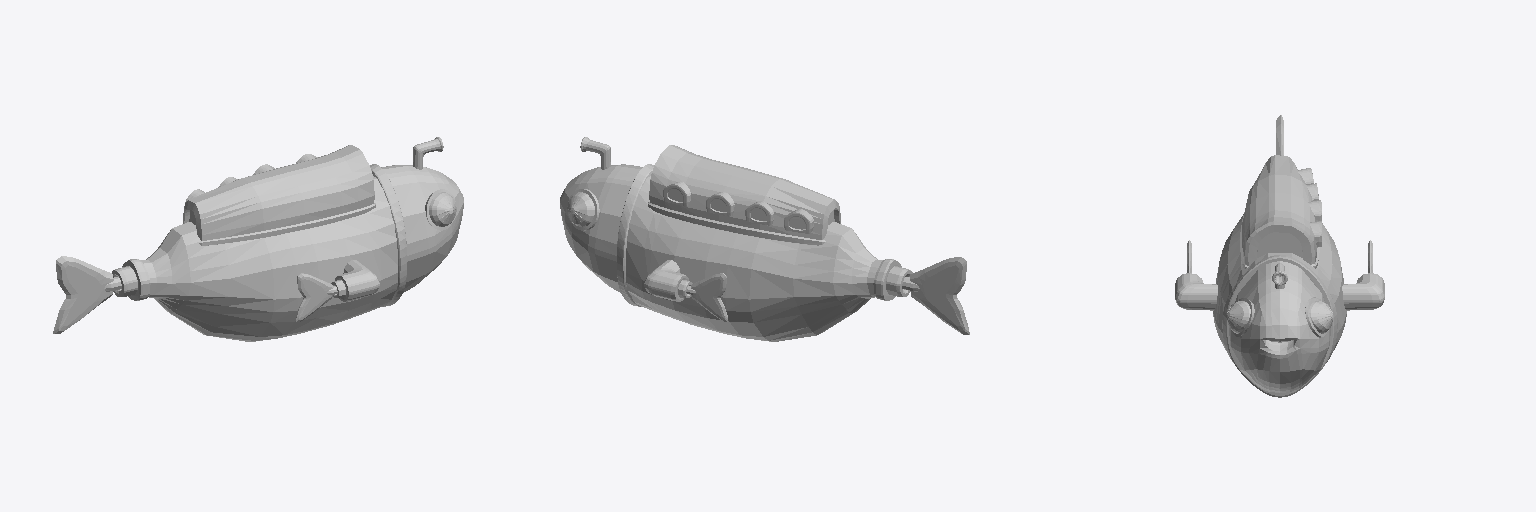
The model's file is SM_FishSubmarine.obj.
3 views of the same model, side by side, from view 1: azimuth 30°, elevation 25°; view 2: azimuth 150°, elevation 25°; view 3: azimuth 270°, elevation 25° (orthographic).
Parts seen in each view (by area): view 1: LP_polySurface6; view 2: LP_polySurface6; view 3: LP_polySurface6.
Part boxes in pixels (left/top/right/bottom): LP_polySurface6: left=53, top=137, right=463, bottom=341; LP_polySurface6: left=560, top=137, right=969, bottom=341; LP_polySurface6: left=1175, top=115, right=1384, bottom=397.
Size of the model in its own units: 11.62 by 4.63 by 5.25.